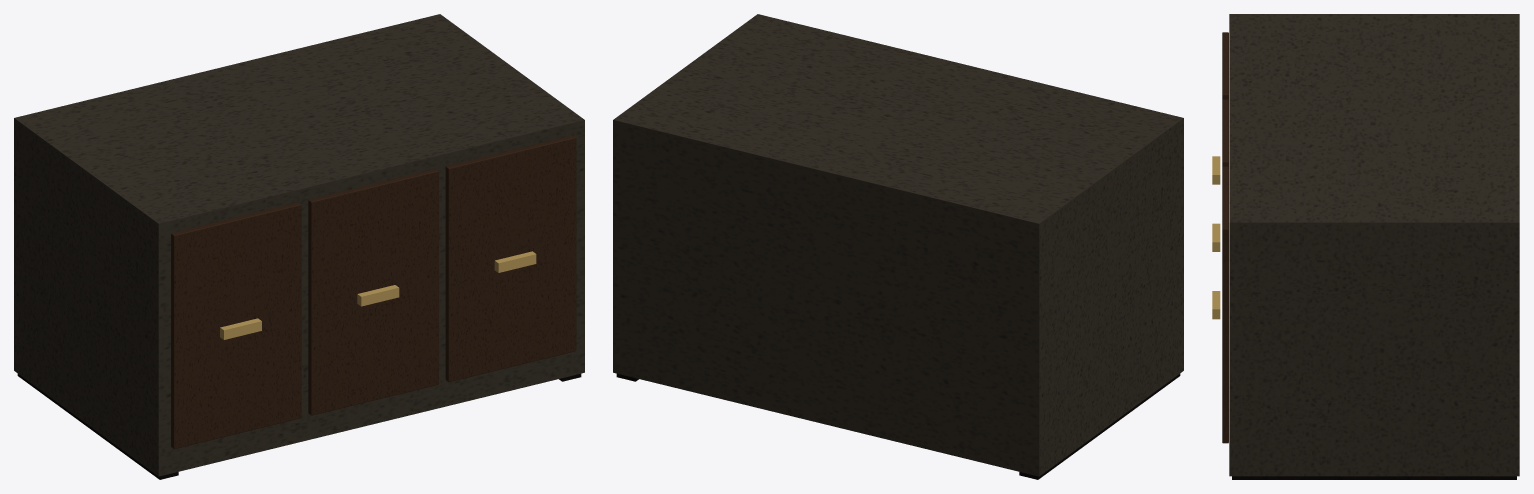
3 renders of one model, left to right at view 1: azimuth 30°, elevation 25°; view 2: azimuth 150°, elevation 25°; view 3: azimuth 270°, elevation 25°, orthographic.
Visible parts, largest first — view 1: d-cabinet; view 2: d-cabinet; view 3: d-cabinet.
Boxes of the visible parts, x1,y1,x2,y2 form: d-cabinet: [14, 14, 584, 479]; d-cabinet: [613, 14, 1183, 479]; d-cabinet: [1212, 14, 1519, 479].
Bounding box in the file's own units: 1.8 × 1.04 × 1.12.
Materials: 4 (3 with a texture image).
